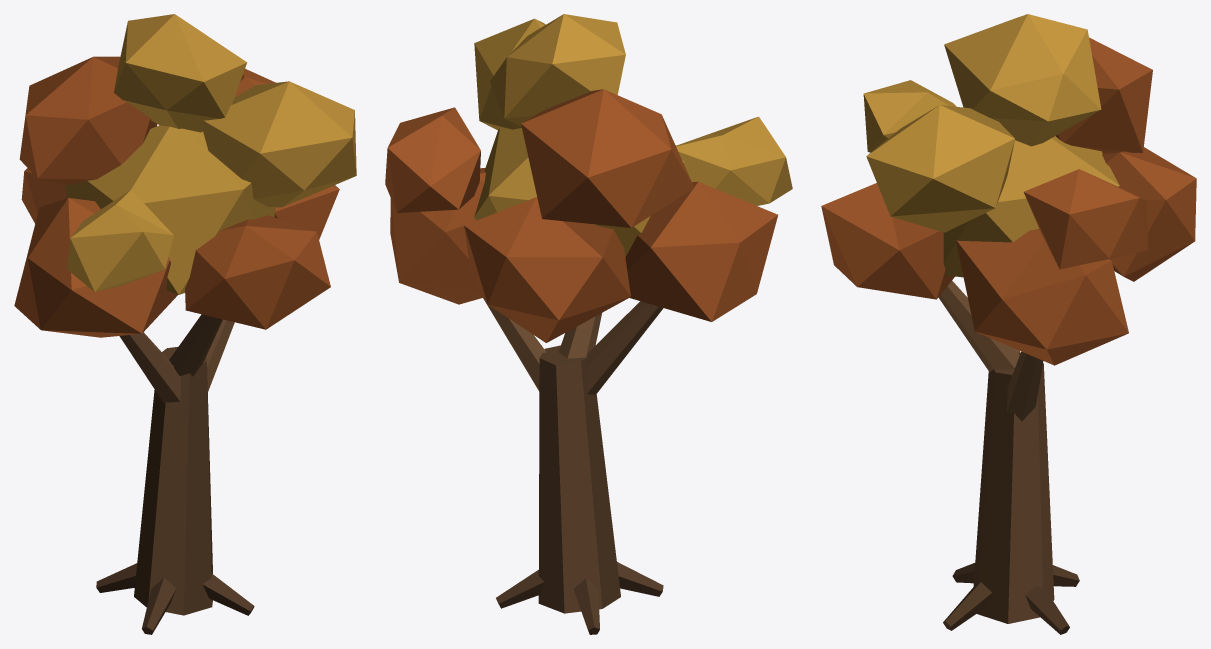
The model's file is oak_2.glb.
3 renders of one model, left to right at view 1: azimuth 30°, elevation 25°; view 2: azimuth 150°, elevation 25°; view 3: azimuth 270°, elevation 25°, orthographic. The views are drawn at different scales.
Parts seen in each view (by area): view 1: Oak2; view 2: Oak2; view 3: Oak2.
Part boxes in pixels (bbox=[...]): Oak2: bbox=[14, 14, 356, 634]; Oak2: bbox=[385, 14, 792, 634]; Oak2: bbox=[821, 14, 1196, 634].
Size of the model in its own units: 1.47 by 2.56 by 1.44.
